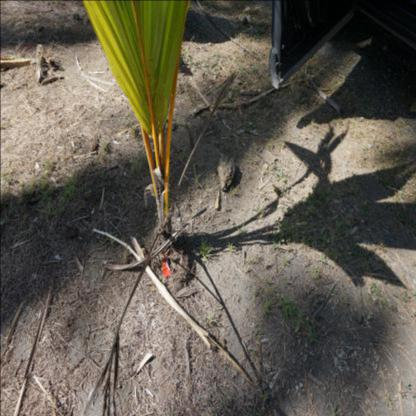Plastic bag - wrapper: (161, 250, 172, 278)
Unlabeled litter: (26, 46, 30, 50)
